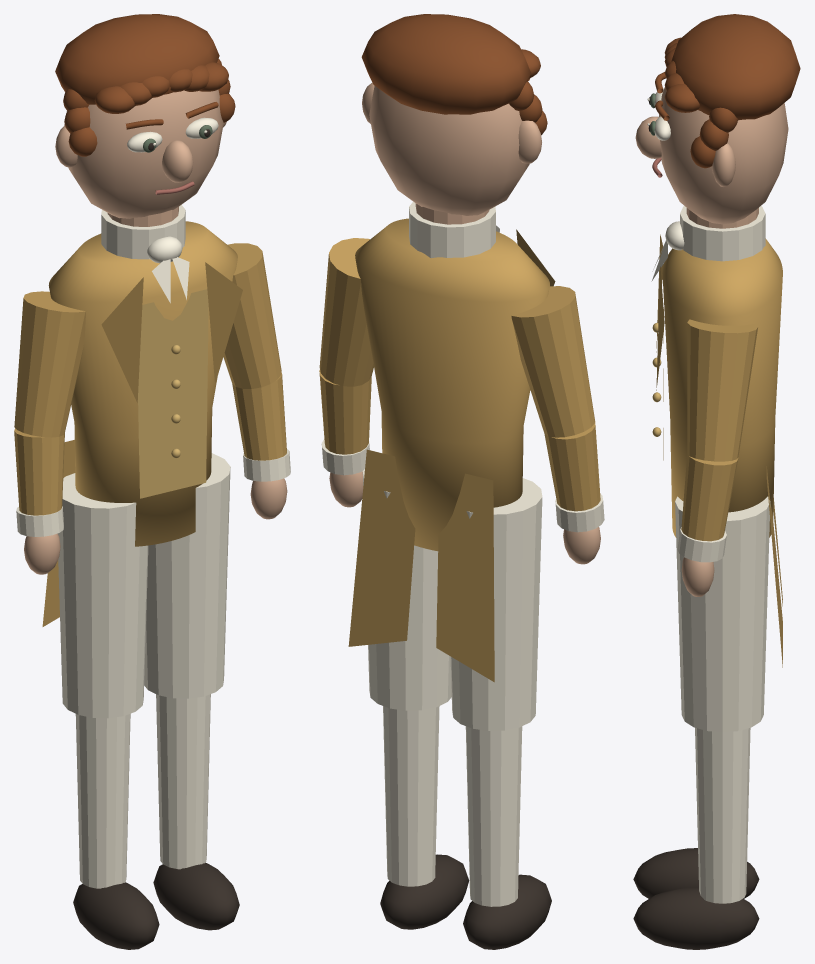
The model's file is bingley.glb.
3 renders of one model, left to right at view 1: azimuth 30°, elevation 25°; view 2: azimuth 150°, elevation 25°; view 3: azimuth 270°, elevation 25°, orthographic. The views are drawn at different scales.
Visible parts, largest first — view 1: bingley fitted coat, bingley breeches, bingley breeches.001, bingley waistcoat, bingley head, bingley hair crown, bingley stocking.001, bingley stocking, bingley sleeve upper, bingley sleeve upper.001, bingley shoe, bingley shoe.001 (+16 smaller); view 2: bingley fitted coat, bingley head, bingley hair crown, bingley breeches, bingley coat tail, bingley coat tail.001, bingley stocking.001, bingley stocking, bingley sleeve upper, bingley breeches.001, bingley sleeve upper.001, bingley shoe.001 (+10 smaller); view 3: bingley fitted coat, bingley breeches.001, bingley hair crown, bingley head, bingley stocking.001, bingley sleeve upper.001, bingley shoe.001, bingley sleeve lower.001, bingley high shirt collar, bingley shoe, bingley cuff.001, bingley hand.001 (+10 smaller).
Part boxes in pixels (x1,y1,x2,y2): bingley fitted coat: [48, 221, 237, 546]; bingley breeches: [57, 473, 148, 718]; bingley breeches.001: [144, 453, 230, 698]; bingley waistcoat: [138, 289, 208, 498]; bingley head: [64, 89, 223, 218]; bingley hair crown: [55, 14, 219, 104]; bingley stocking.001: [156, 694, 210, 869]; bingley stocking: [75, 713, 130, 888]; bingley sleeve upper: [14, 291, 85, 437]; bingley sleeve upper.001: [223, 243, 281, 388]; bingley shoe: [73, 882, 159, 949]; bingley shoe.001: [153, 862, 239, 930]; bingley fitted coat: [355, 218, 549, 551]; bingley head: [369, 86, 529, 215]; bingley hair crown: [361, 14, 530, 114]; bingley breeches: [450, 478, 542, 730]; bingley coat tail: [436, 473, 494, 682]; bingley coat tail.001: [348, 449, 415, 646]; bingley stocking.001: [383, 706, 439, 886]; bingley stocking: [465, 726, 522, 906]; bingley sleeve upper: [511, 286, 594, 437]; bingley breeches.001: [362, 469, 451, 710]; bingley sleeve upper.001: [319, 238, 373, 386]; bingley shoe.001: [380, 854, 469, 929]; bingley fitted coat: [662, 238, 782, 537]; bingley breeches.001: [675, 496, 770, 732]; bingley hair crown: [671, 14, 800, 120]; bingley head: [658, 87, 788, 224]; bingley stocking.001: [695, 727, 750, 903]; bingley sleeve upper.001: [687, 319, 757, 461]; bingley shoe.001: [633, 887, 759, 949]; bingley sleeve lower.001: [681, 454, 738, 541]; bingley high shirt collar: [680, 206, 765, 261]; bingley shoe: [633, 848, 759, 898]; bingley cuff.001: [677, 527, 726, 562]; bingley hand.001: [681, 557, 714, 596].
Size of the model in its own units: 0.566 by 1.81 by 0.305.
